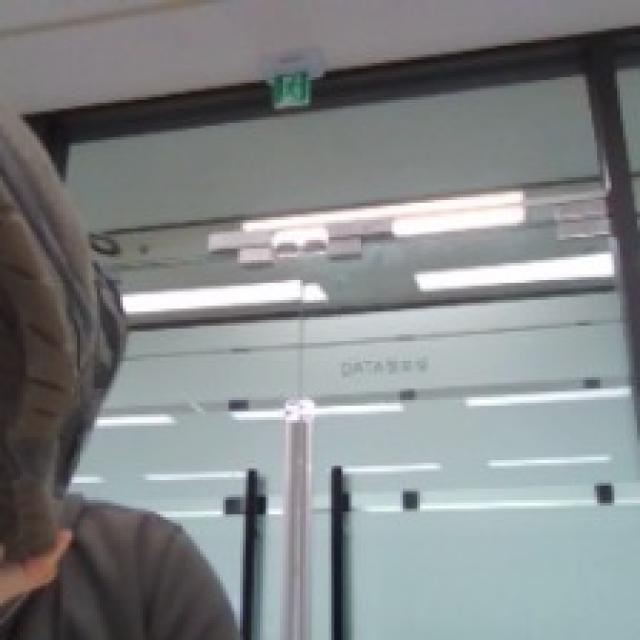shoe: (1, 115, 144, 622)
